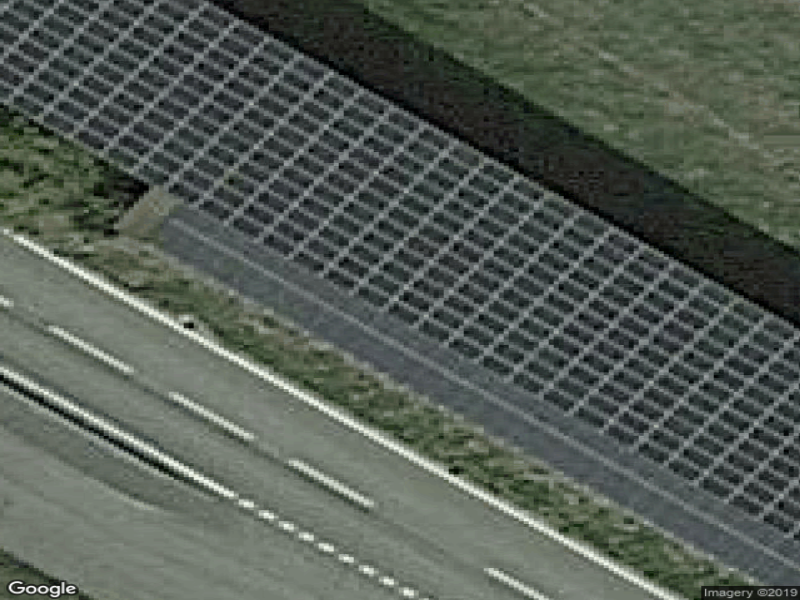pv: (2, 1, 800, 541)
